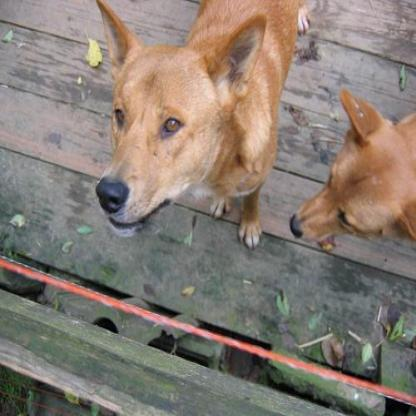dingo: (94, 0, 310, 247), (288, 87, 414, 245)
